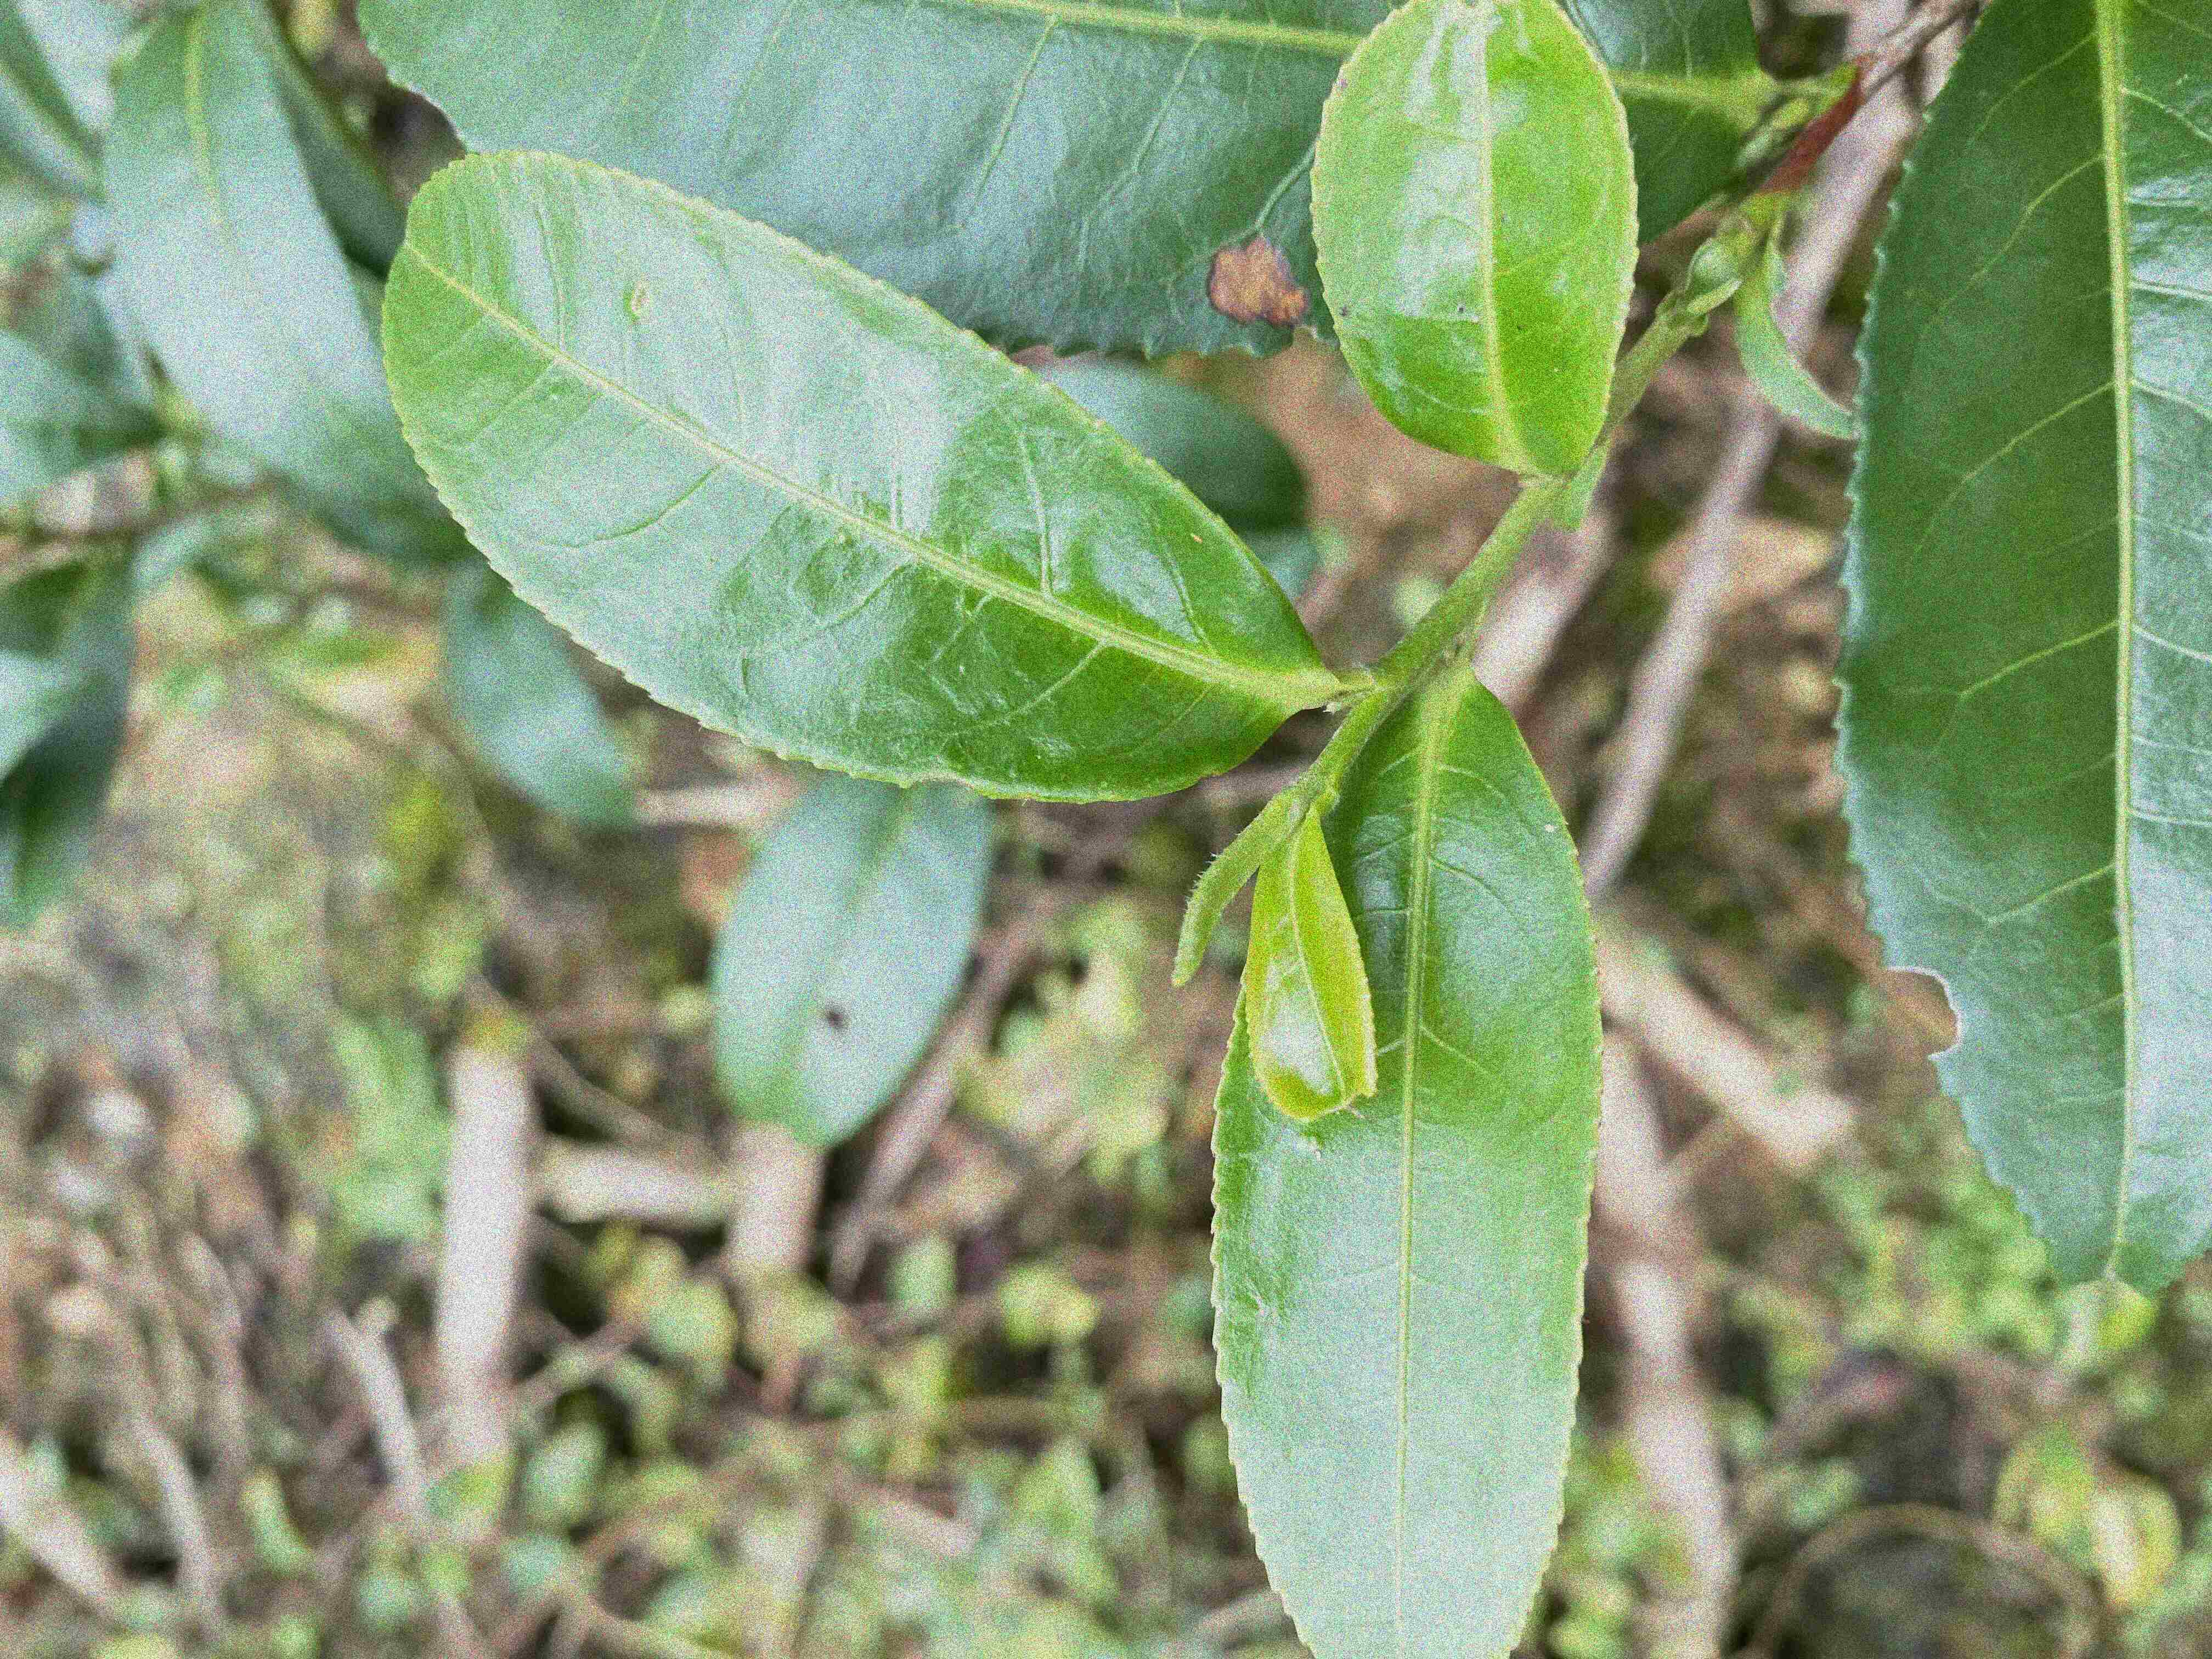chihuo_low: (1825, 5, 2210, 1298)
healthy: (1211, 664, 1599, 1652)
tanju_low: (359, 0, 1761, 359)
